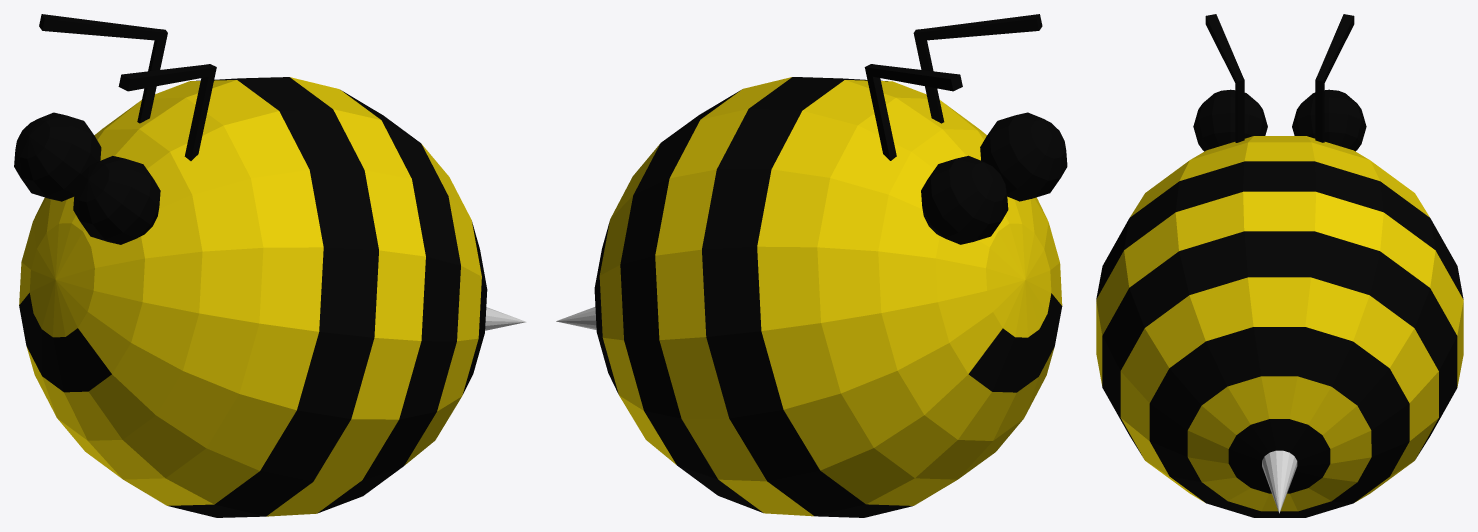
File: Bee.fbx
3 views of the same model, side by side, from view 1: azimuth 30°, elevation 25°; view 2: azimuth 150°, elevation 25°; view 3: azimuth 270°, elevation 25° (orthographic). The views are drawn at different scales.
Parts seen in each view (by area): view 1: 球; view 2: 球; view 3: 球.
Part boxes in pixels (left/top/right/bottom): 球: left=14, top=14, right=525, bottom=517; 球: left=556, top=14, right=1067, bottom=517; 球: left=1096, top=14, right=1463, bottom=517.
Bounding box in the file's own units: 205 × 201 × 163.
